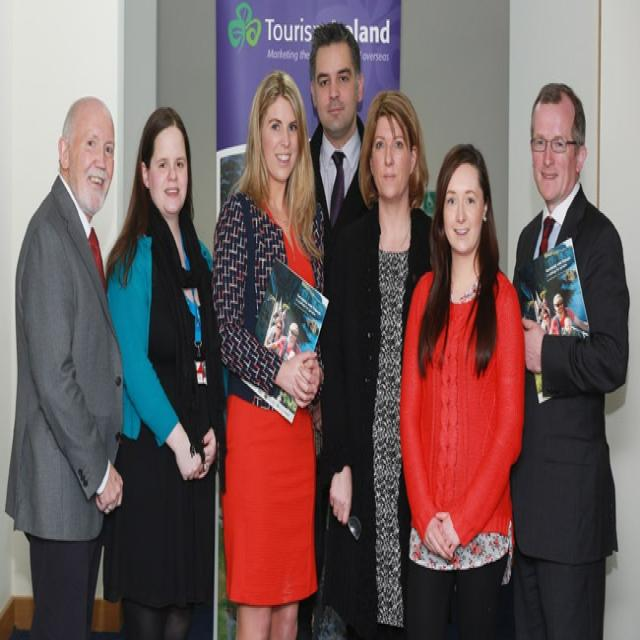body: (103, 101, 230, 638), (508, 80, 630, 638), (4, 91, 127, 638), (214, 61, 329, 638), (397, 136, 528, 638), (327, 85, 435, 640), (307, 19, 371, 242), (260, 293, 319, 366), (536, 288, 588, 349)
